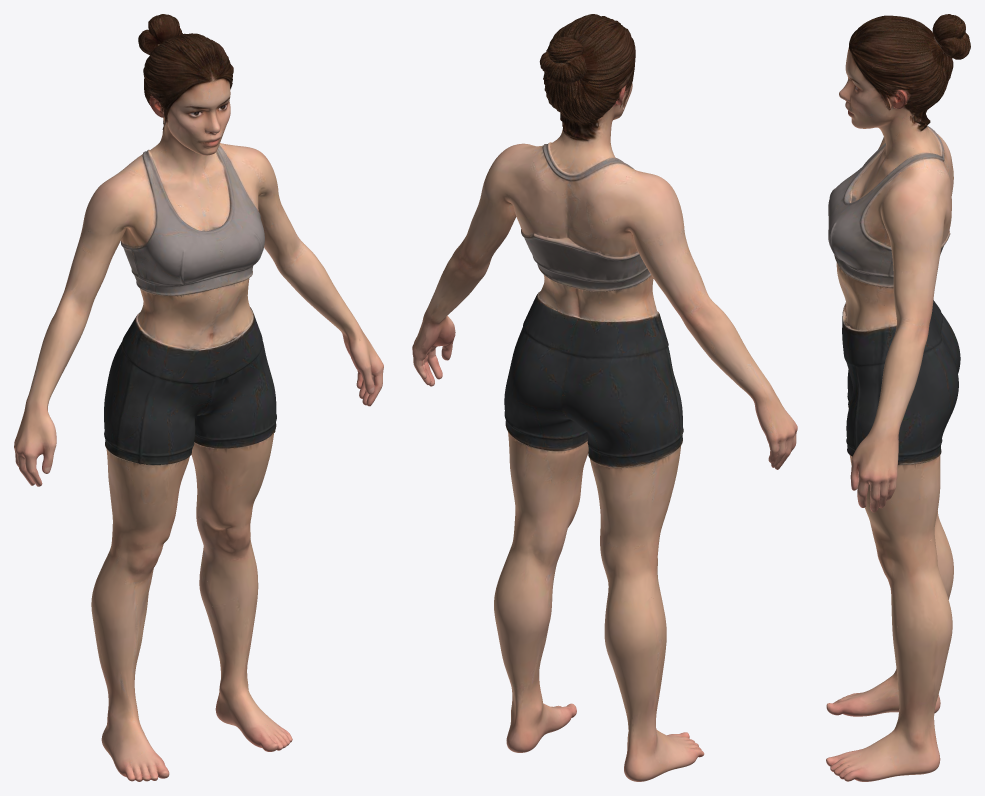
The model's file is woman-base-light.glb.
3 renders of one model, left to right at view 1: azimuth 30°, elevation 25°; view 2: azimuth 150°, elevation 25°; view 3: azimuth 270°, elevation 25°, orthographic. The views are drawn at different scales.
Visible parts, largest first — view 1: woman-base-character; view 2: woman-base-character; view 3: woman-base-character.
Boxes of the visible parts, <box> form: woman-base-character: <box>14,14,383,781</box>; woman-base-character: <box>412,14,797,781</box>; woman-base-character: <box>826,14,970,781</box>.
Bounding box in the file's own units: 0.9035 × 1.68 × 0.3026.
Materials: 1 (1 with a texture image).
